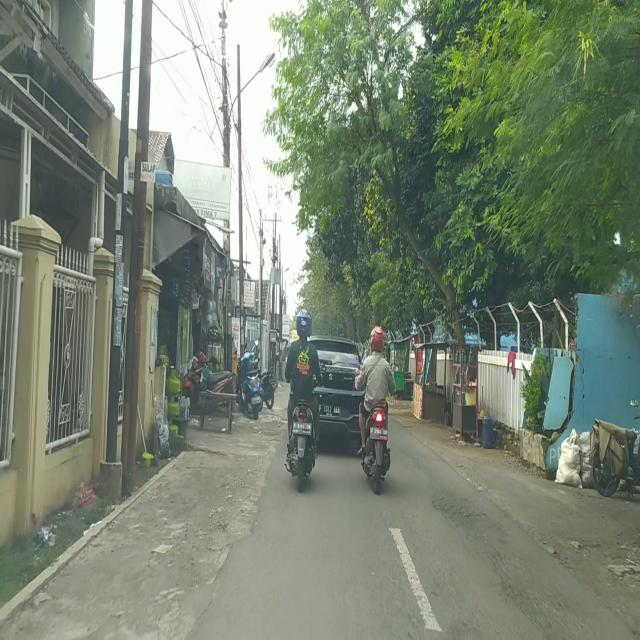Drain Hole: (435, 499, 571, 640)
